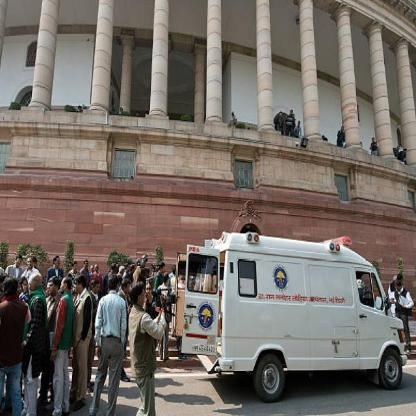priority: (178, 233, 404, 399)
